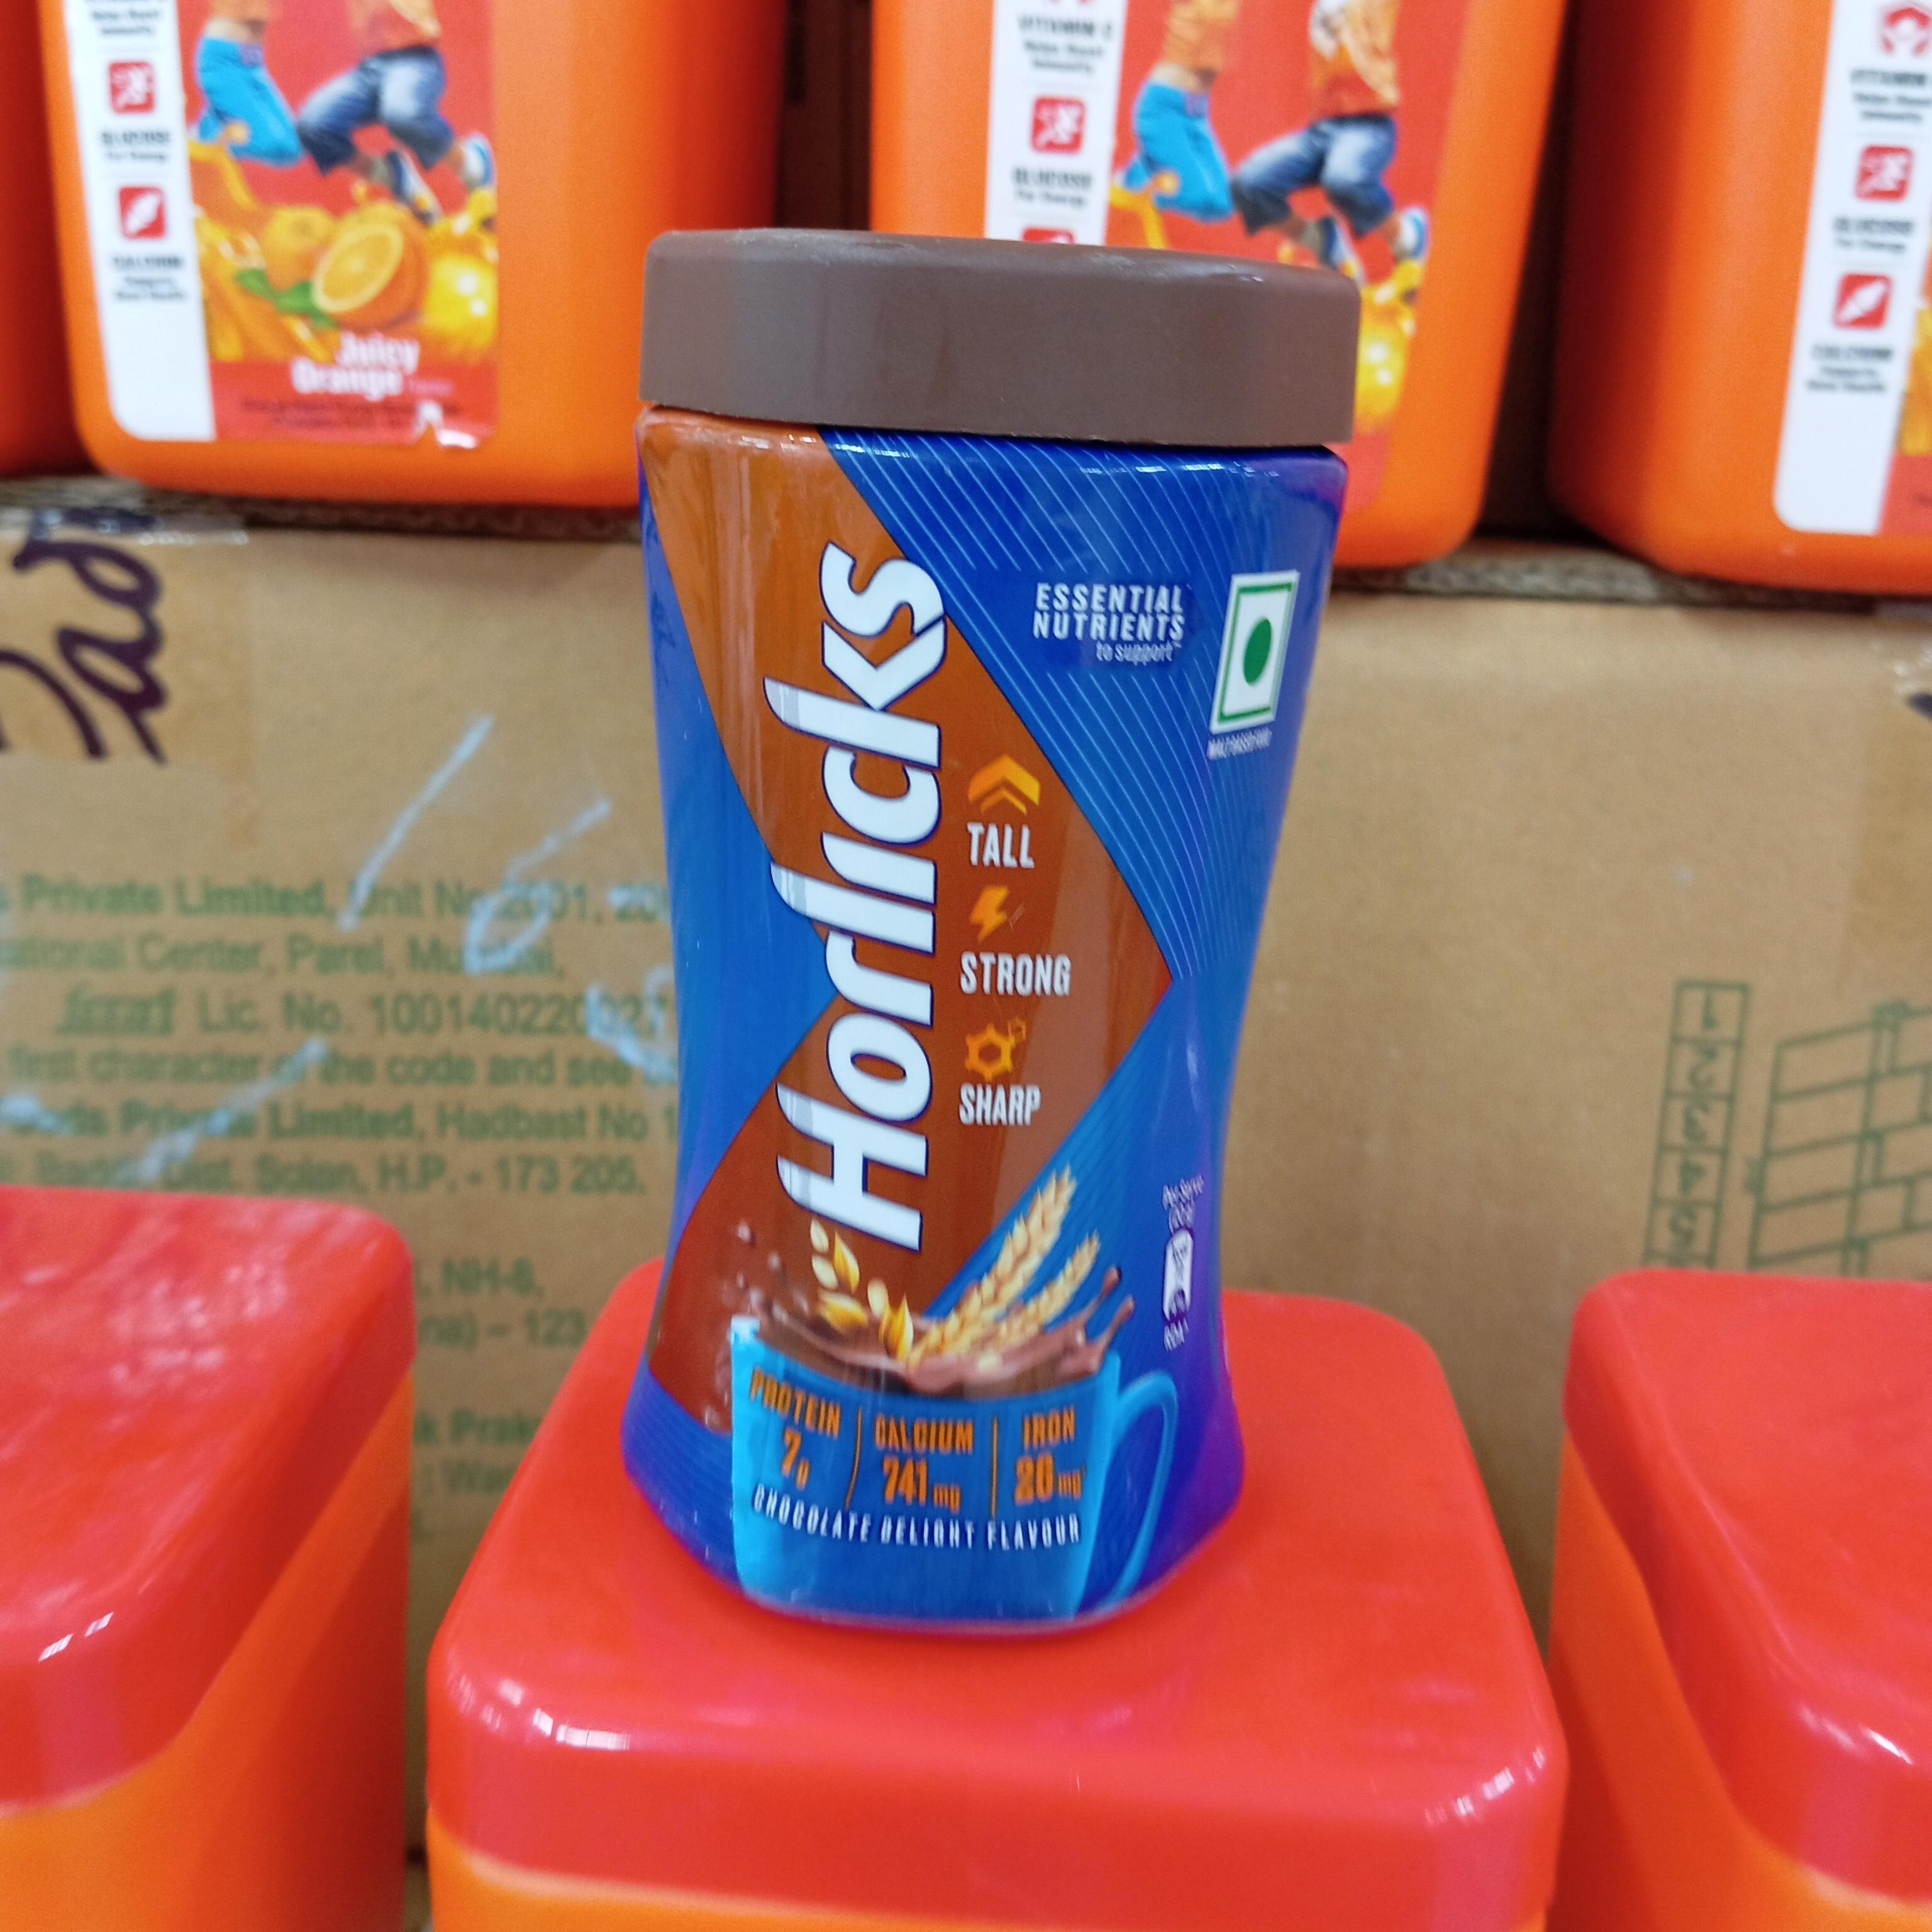HORLICK_CHOCOLATE_200_G_JAR: (610, 219, 1302, 1642)
